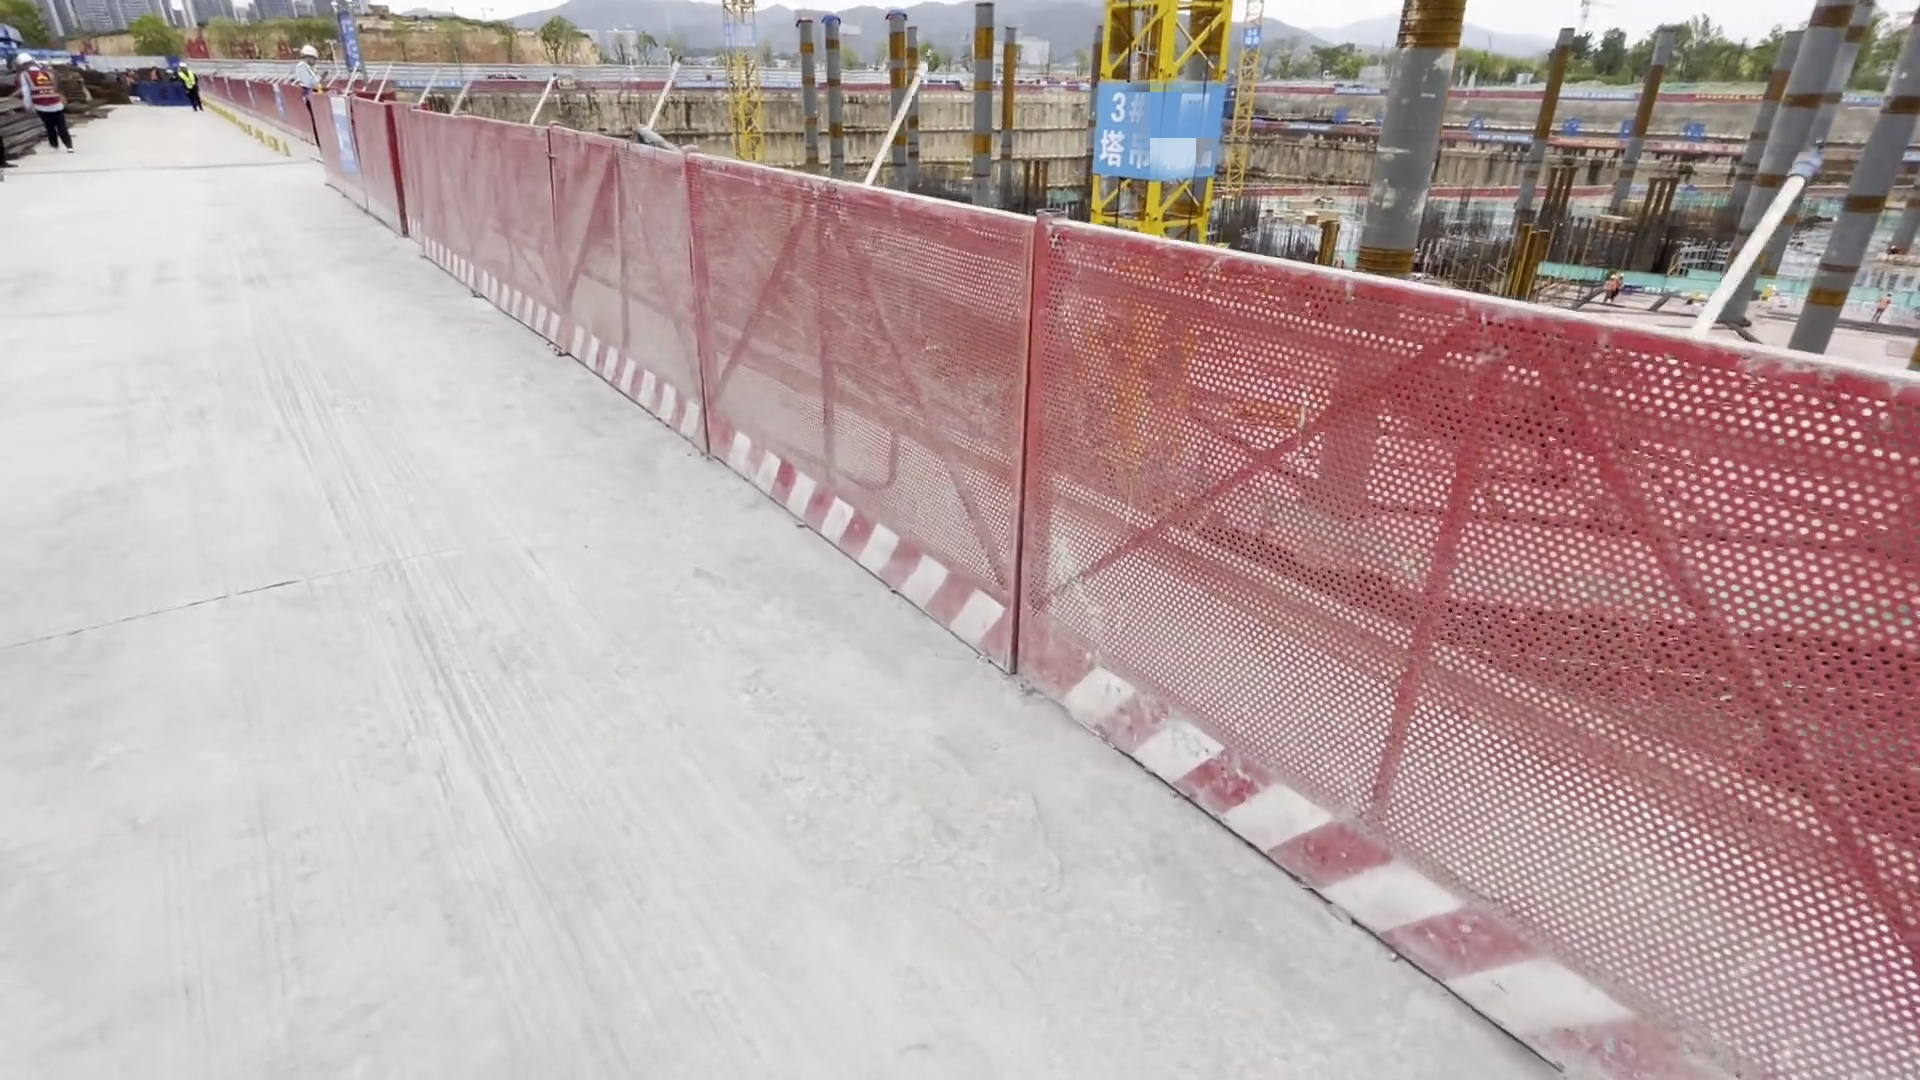fence: (1035, 240, 1920, 1077), (341, 105, 1038, 623)
helmet: (11, 53, 43, 68), (296, 45, 320, 58)
person: (14, 49, 75, 155), (292, 44, 329, 161), (175, 61, 205, 113)
vest: (25, 69, 61, 109), (178, 73, 197, 92)
